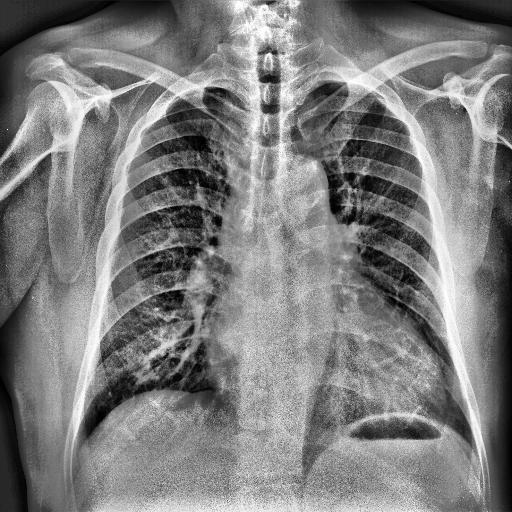0- Aortic enlargement: (280, 154, 330, 250), (276, 159, 330, 246), (285, 156, 328, 205)
3- Cardiomegaly: (205, 290, 446, 422), (201, 307, 448, 420), (200, 330, 450, 421)
